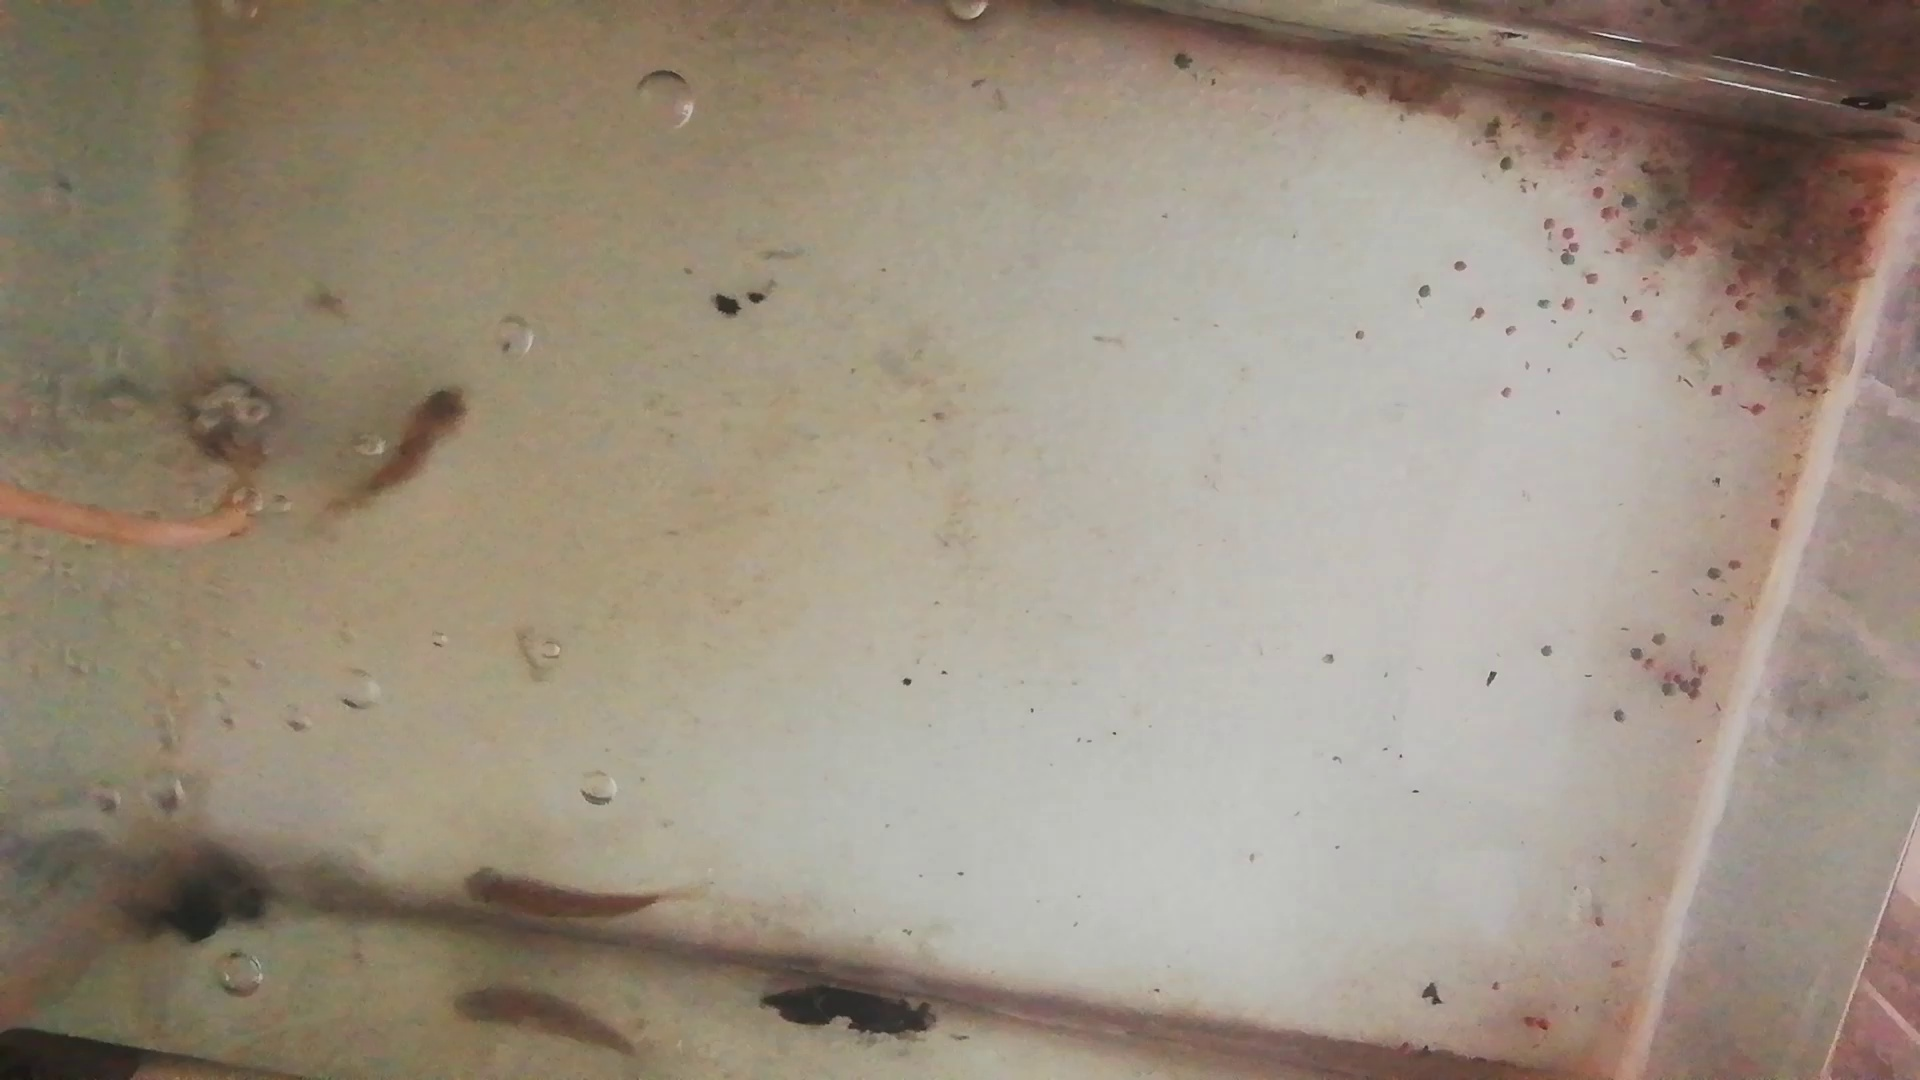fish: (331, 382, 473, 512), (464, 866, 673, 922)
